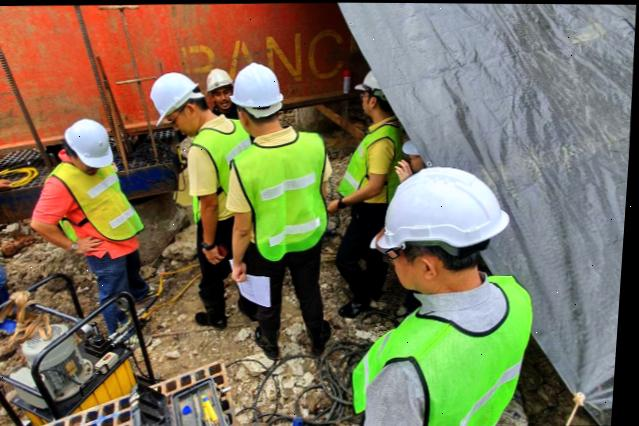helmet: (373, 159, 516, 256), (134, 65, 203, 112), (227, 61, 290, 106), (61, 114, 118, 163), (343, 64, 404, 95), (207, 66, 229, 85)
vest: (351, 286, 551, 426), (230, 127, 339, 265), (44, 162, 151, 254), (187, 121, 254, 227), (343, 119, 404, 201)
